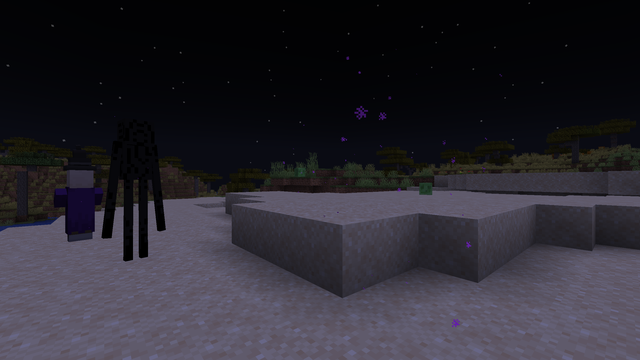endermens: (116, 112, 154, 264)
slimes: (416, 182, 433, 194), (293, 167, 305, 176)
sorcieres: (63, 167, 94, 243)
